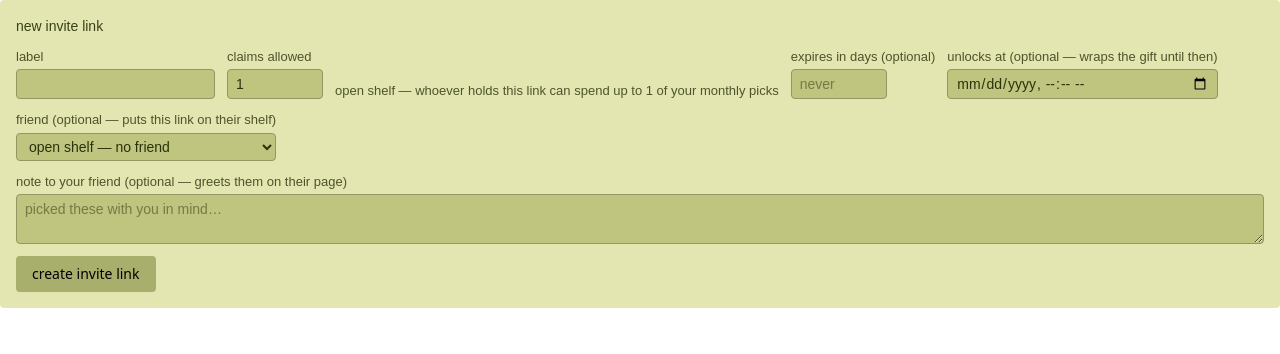
Links › create form › 422 validation rejection shows the violated bound verbatim and keeps inputs
Expected: the button "create invite link" is shown, [16, 256, 156, 292]
Type "Overflow" into the field labelled "label" at [116, 84], box [16, 69, 215, 99]
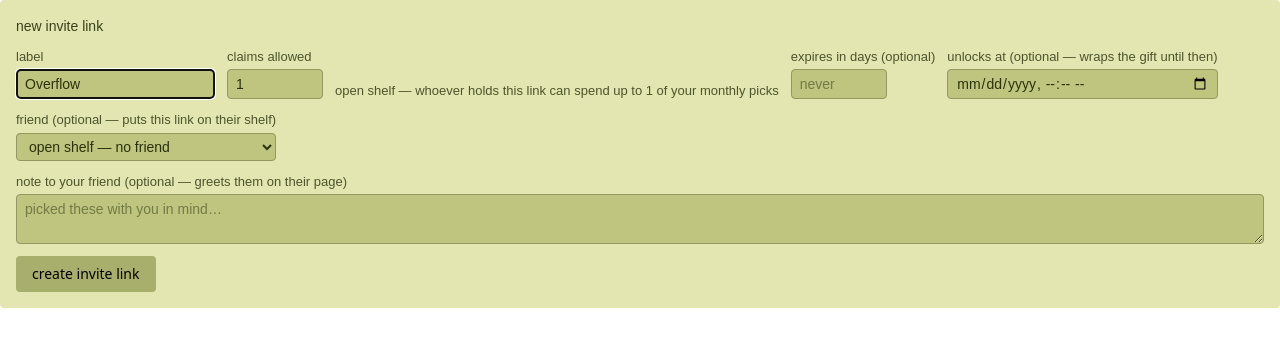
Click the button "create invite link" at [86, 274], box [16, 256, 156, 292]
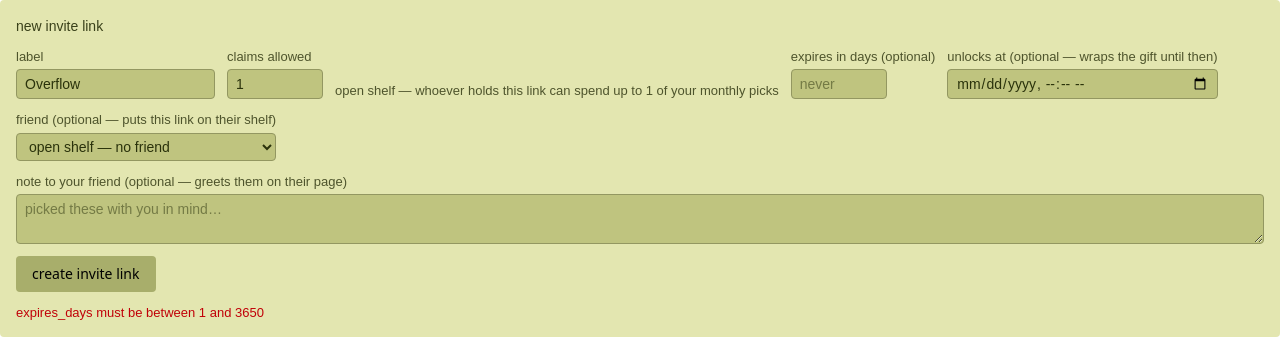
Result: the message reads "expires_days must be between 1 and 3650" at [16, 305, 264, 320]
